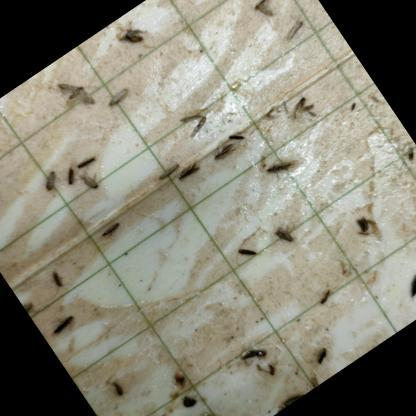prays_oleae: (173, 95, 221, 143), (254, 140, 302, 188), (52, 66, 98, 116), (280, 86, 325, 132), (40, 302, 84, 344), (304, 272, 344, 314), (98, 74, 138, 114), (112, 16, 152, 56), (300, 329, 338, 369), (89, 211, 129, 248), (204, 132, 240, 167), (40, 262, 75, 297), (34, 163, 67, 197), (267, 216, 299, 251), (230, 233, 262, 267), (74, 166, 106, 200), (245, 0, 284, 25), (280, 18, 312, 44), (32, 316, 56, 348), (396, 140, 416, 171), (14, 288, 36, 316), (57, 160, 80, 185)
